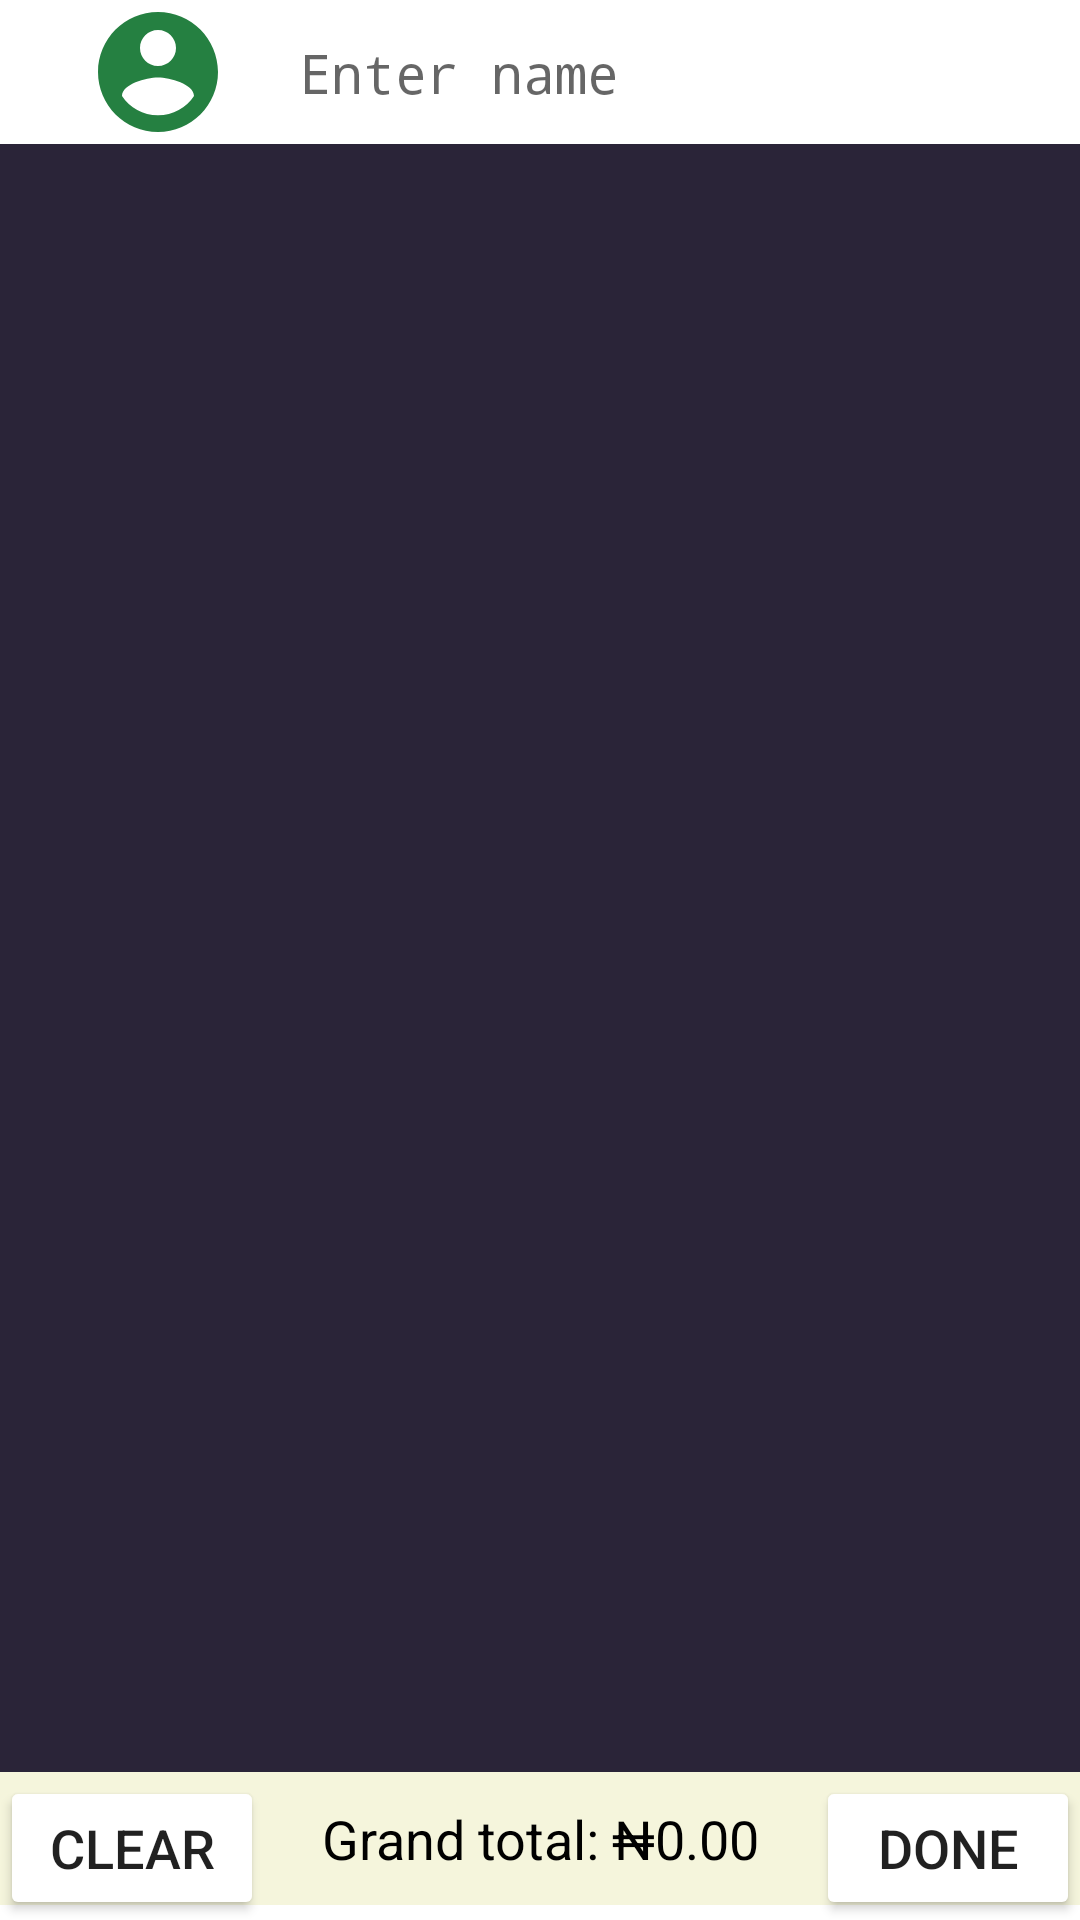

Named icons in this screenshot (1080x1920) and their bounding boxes, rect(x1, y1, x2, y2):
account: rect(98, 12, 218, 132)
